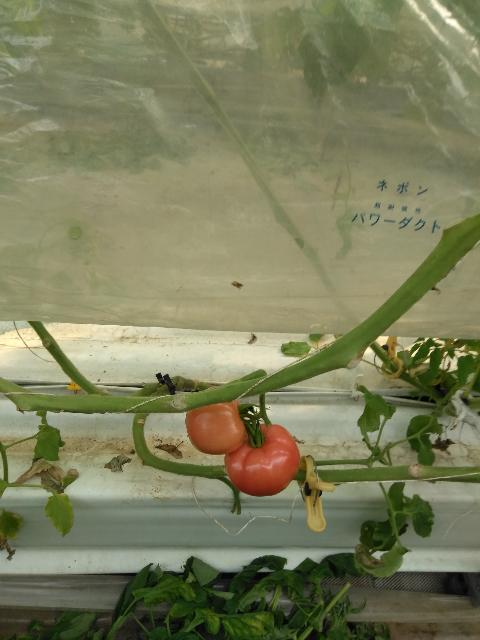b_fully_ripened: (224, 423, 300, 497)
b_half_ripened: (185, 386, 246, 456)
